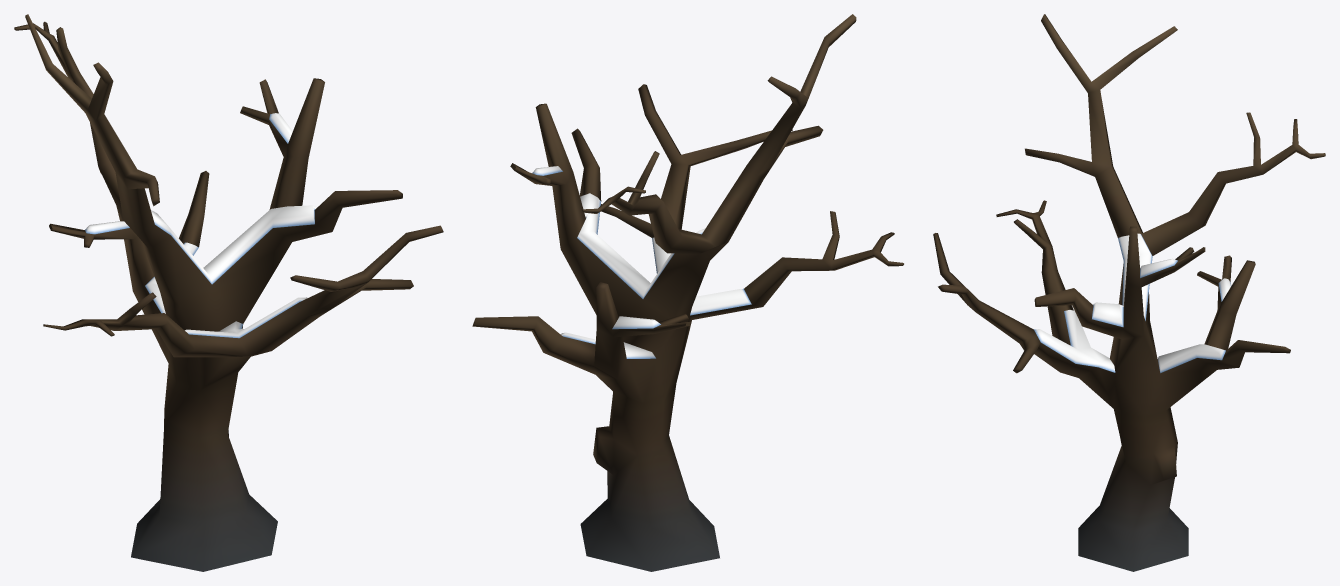
Rendered from deco_winter_treeDeadB_snow.FBX.
3 renders of one model, left to right at view 1: azimuth 30°, elevation 25°; view 2: azimuth 150°, elevation 25°; view 3: azimuth 270°, elevation 25°, orthographic. The views are drawn at different scales.
Visible parts, largest first — view 1: deco_winter_treeDeadB_snow; view 2: deco_winter_treeDeadB_snow; view 3: deco_winter_treeDeadB_snow.
Boxes of the visible parts, left/top/right/bottom form: deco_winter_treeDeadB_snow: left=14, top=14, right=443, bottom=571; deco_winter_treeDeadB_snow: left=472, top=14, right=903, bottom=571; deco_winter_treeDeadB_snow: left=933, top=14, right=1325, bottom=571.
Bounding box in the file's own units: 4.36 × 6.52 × 5.01.
1 material, 1 textured.
